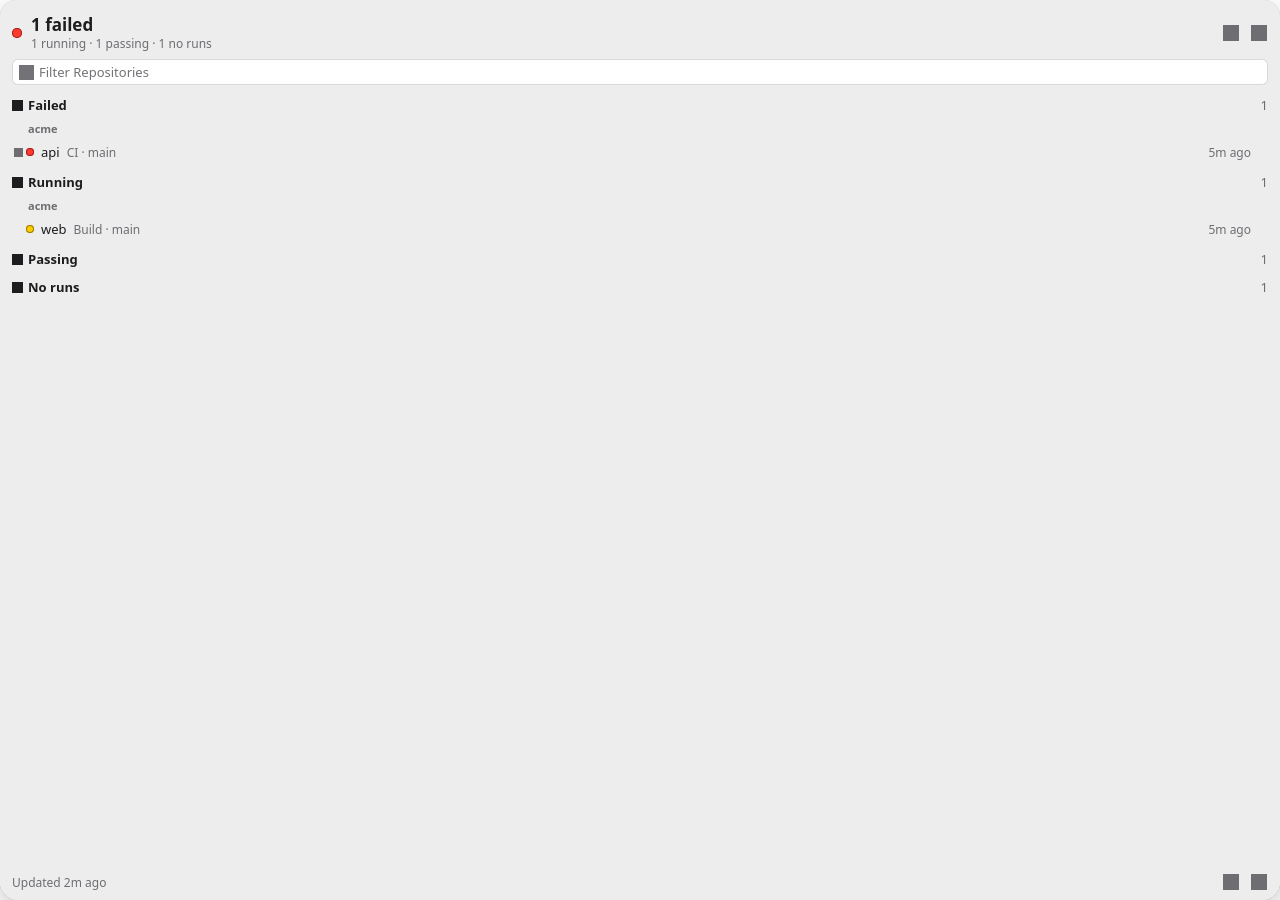
it: Popup header actions › keeps a refresh error until it is dismissed
The image size is (1280, 900).
Click the button named "Refresh now": point(1231, 32) [1218,20,1244,44]
Wait 60000 ms
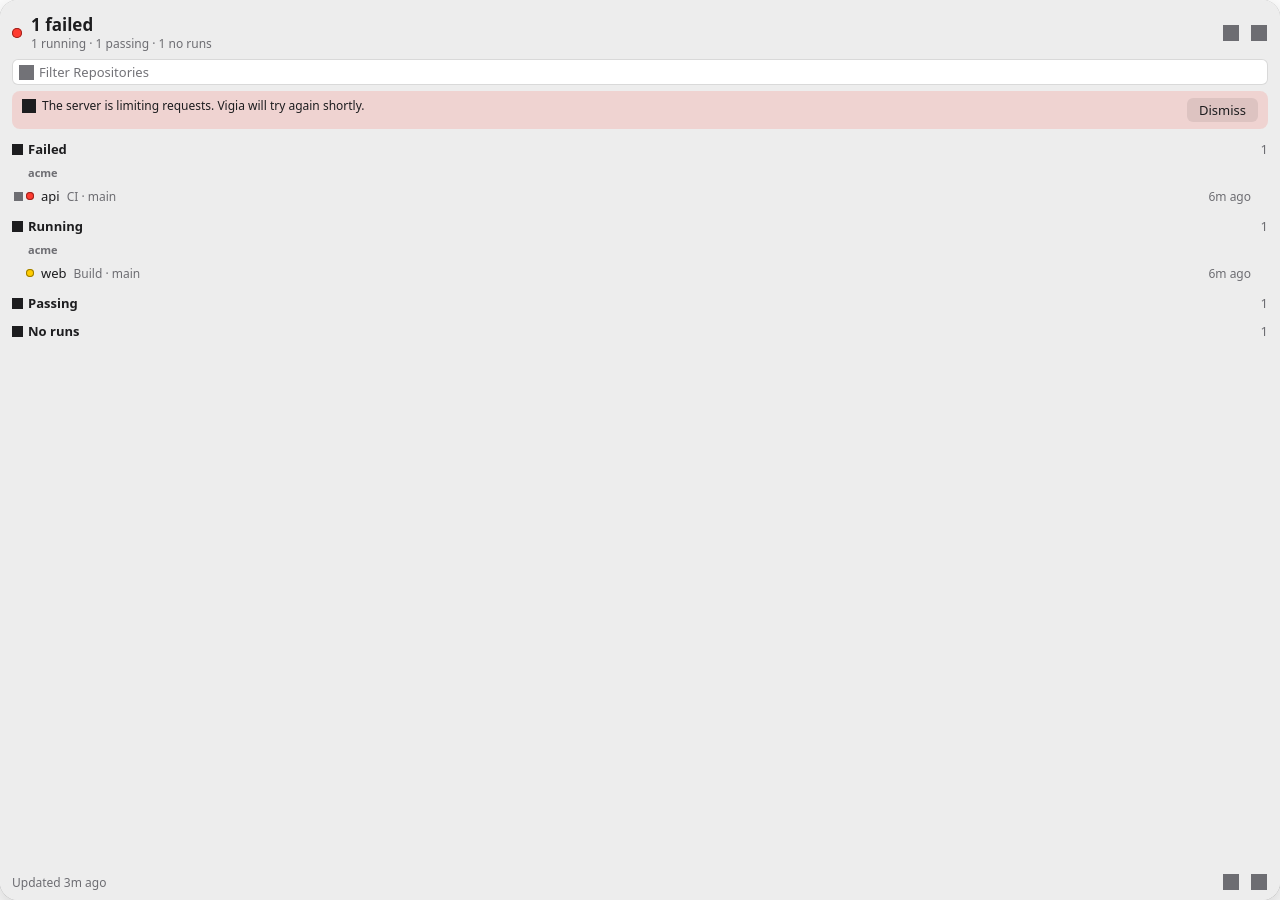
expect the message shows "The server is limiting requests": met, box [42,97,365,114]
expect the message "The server is limiting requests. Vigia will try again shortly. Dismiss" is shown: met, box [12,91,1268,129]
Click the button "Dismiss": point(1222, 110) [1187,98,1258,122]
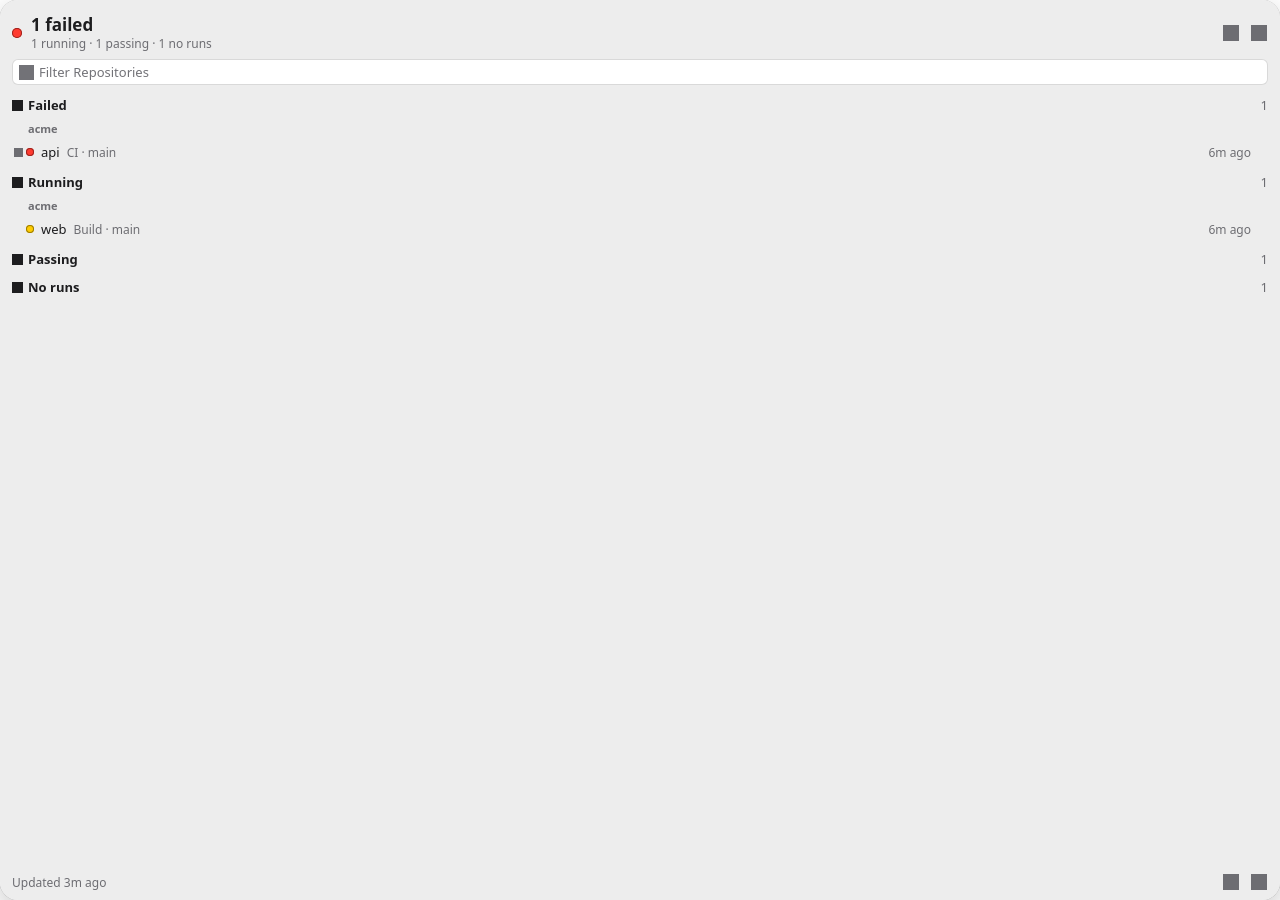
expect the message "The server is limiting requests. Vigia will try again shortly. Dismiss" is gone: met
